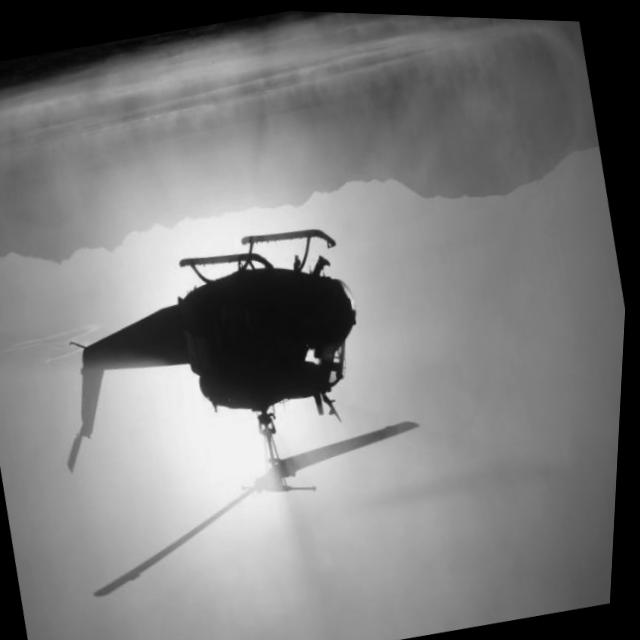helikopter: (17, 202, 435, 533)
